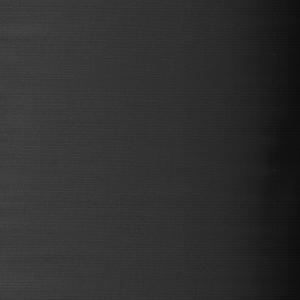Wrinkle: (226, 1, 300, 300), (1, 245, 83, 277), (1, 26, 66, 51)
